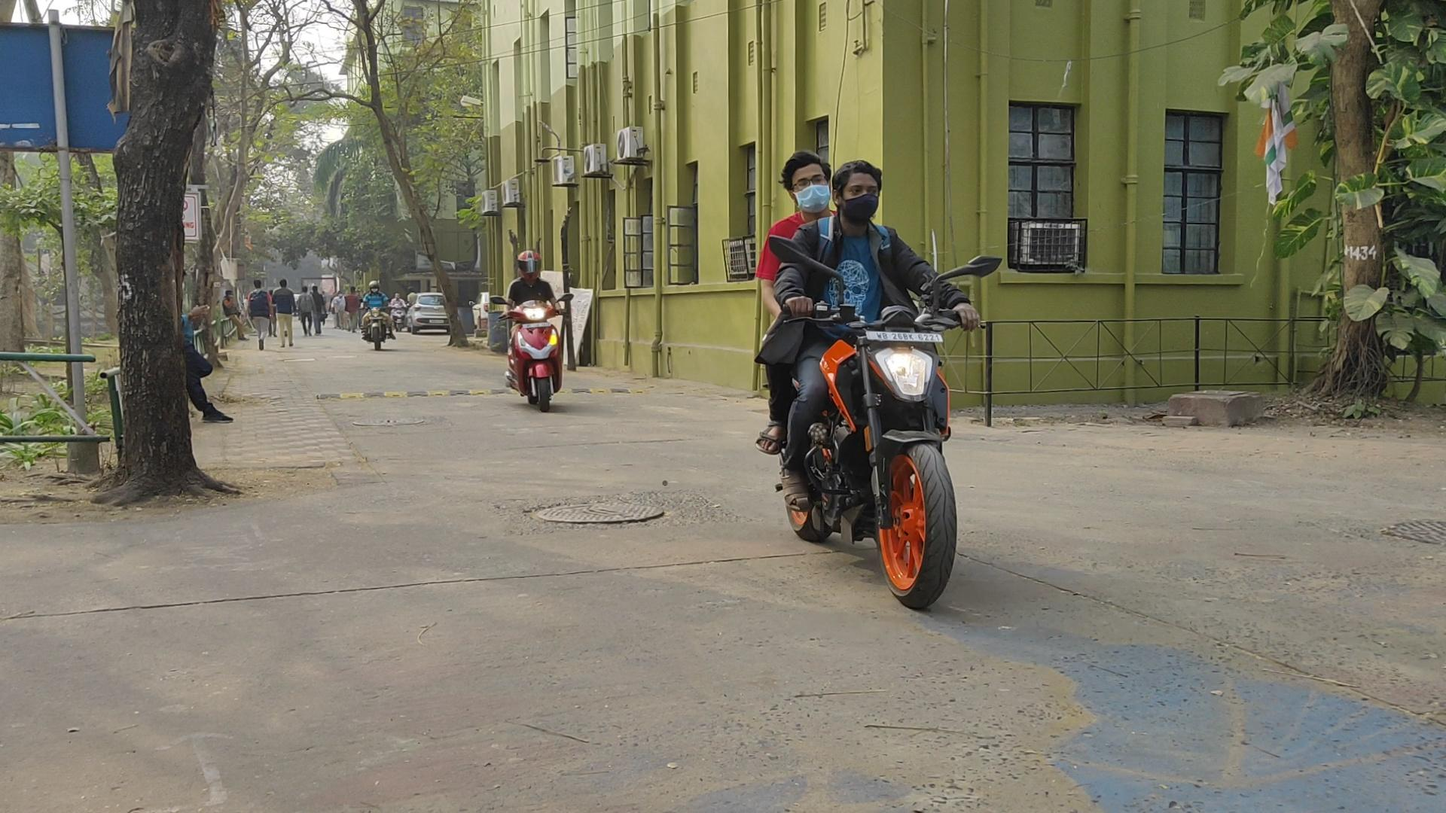bike: (758, 151, 1004, 629), (508, 250, 575, 413), (362, 278, 398, 352), (389, 293, 410, 332)
car: (405, 291, 453, 335)
